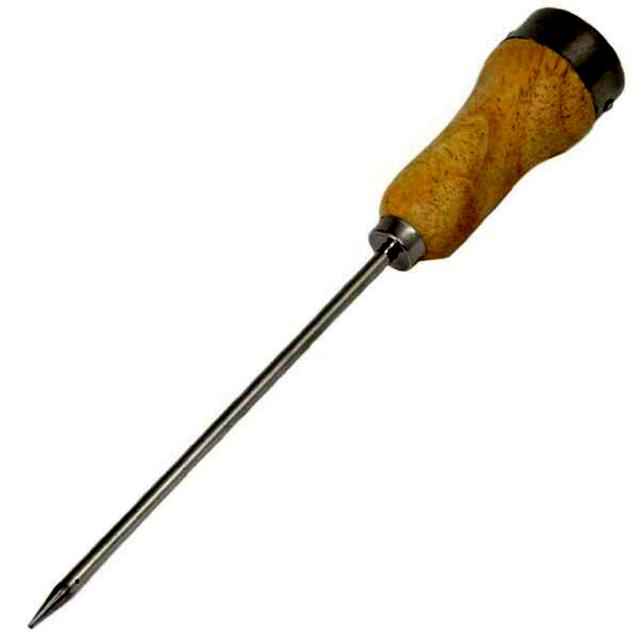ice pick: (26, 4, 628, 632)
